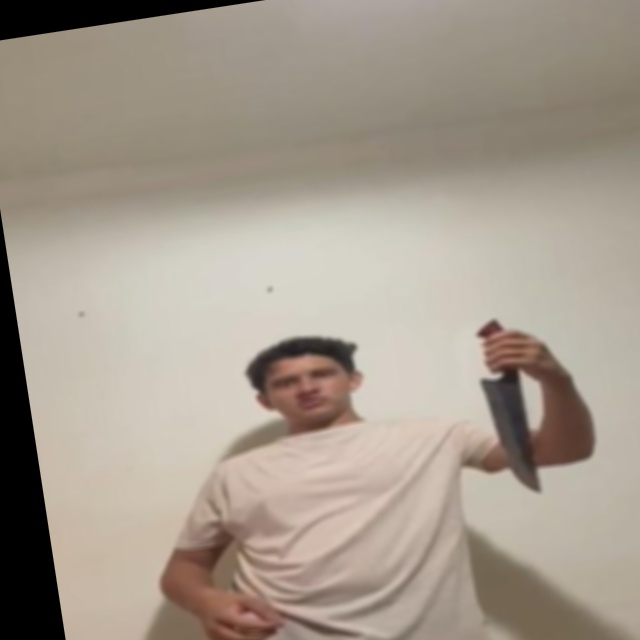Sharp-Object: (475, 371, 546, 500)
